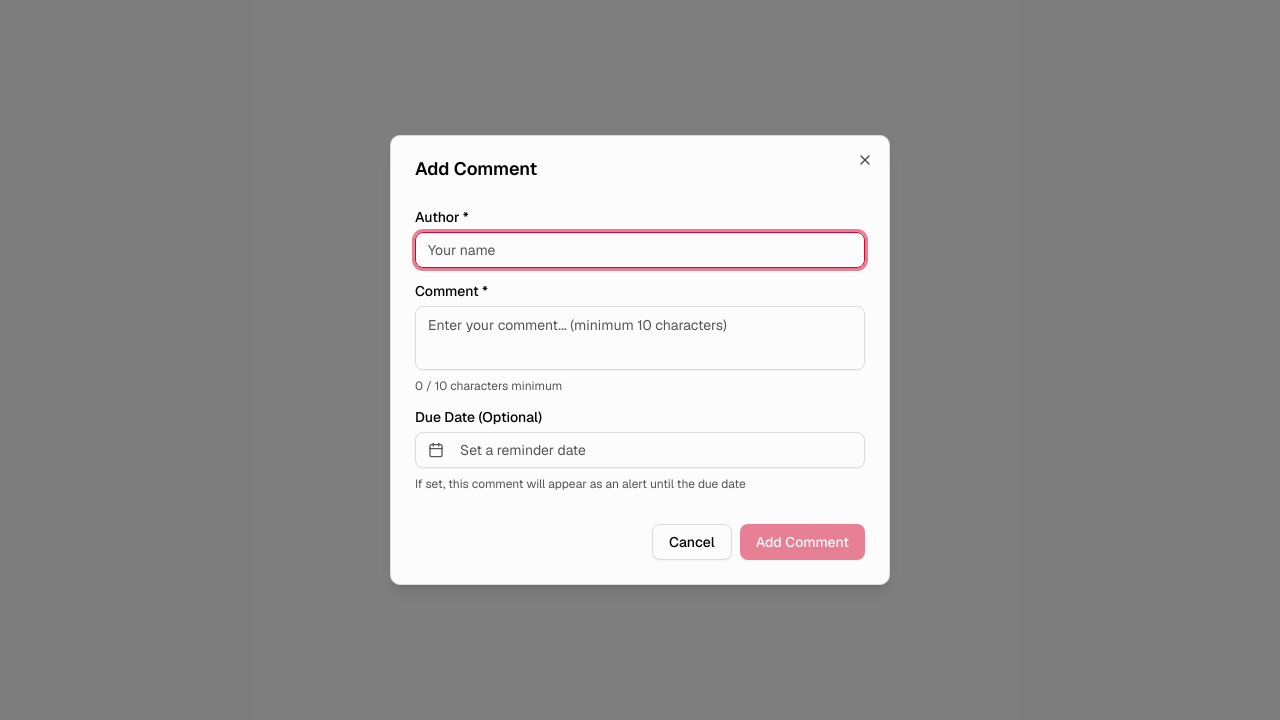
Test case: CommentDialog › AC-007: Form validation › shows character count for comment body
Expected: the text "0 / 10 characters minimum" is shown, [415,378,562,394]
Type "Test comment" into the text box with placeholder "Enter your comment... (minimum 10 characters)" at (640, 338), box [415,306,865,370]
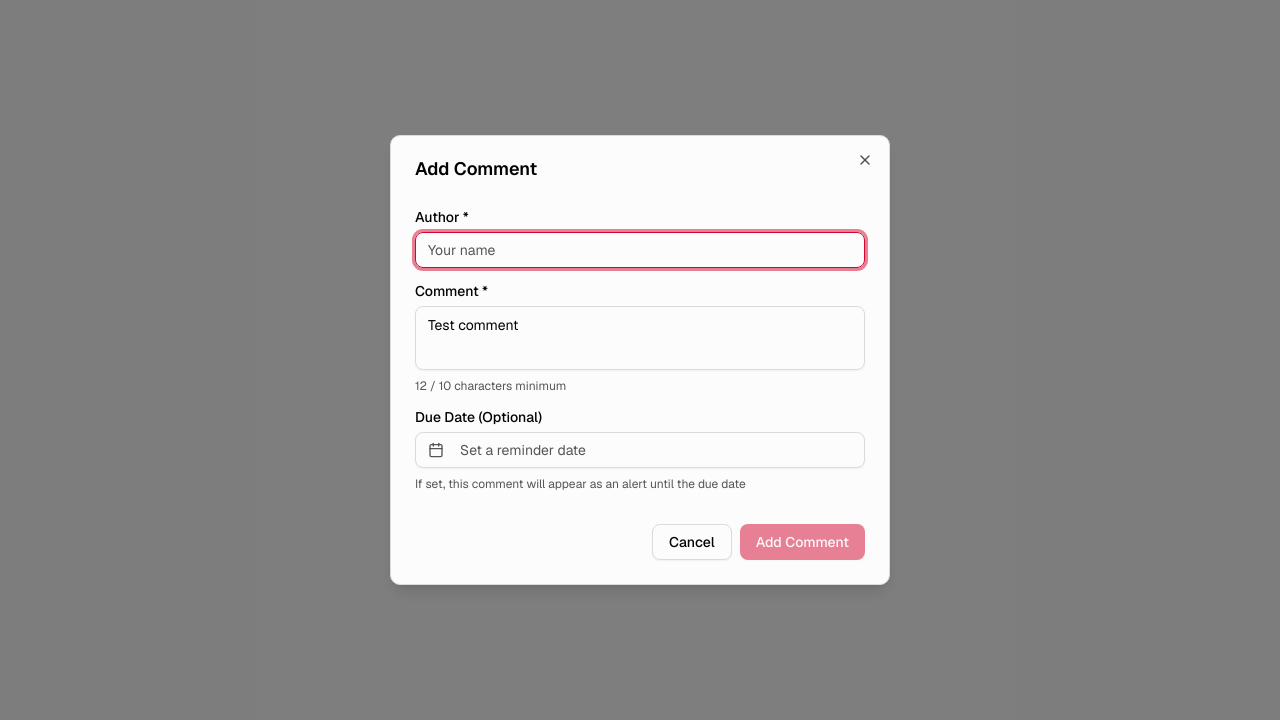
Expected: the text "12 / 10 characters minimum" is shown, [415,378,566,394]
